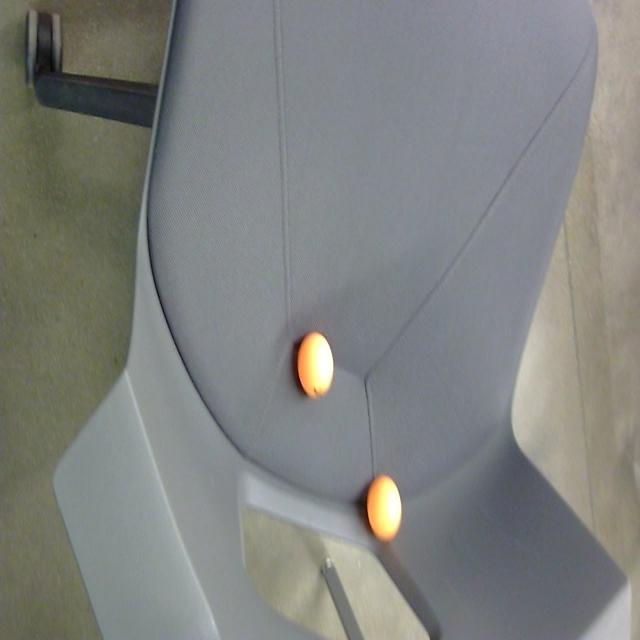ball: (295, 327, 336, 404), (366, 474, 403, 544)
